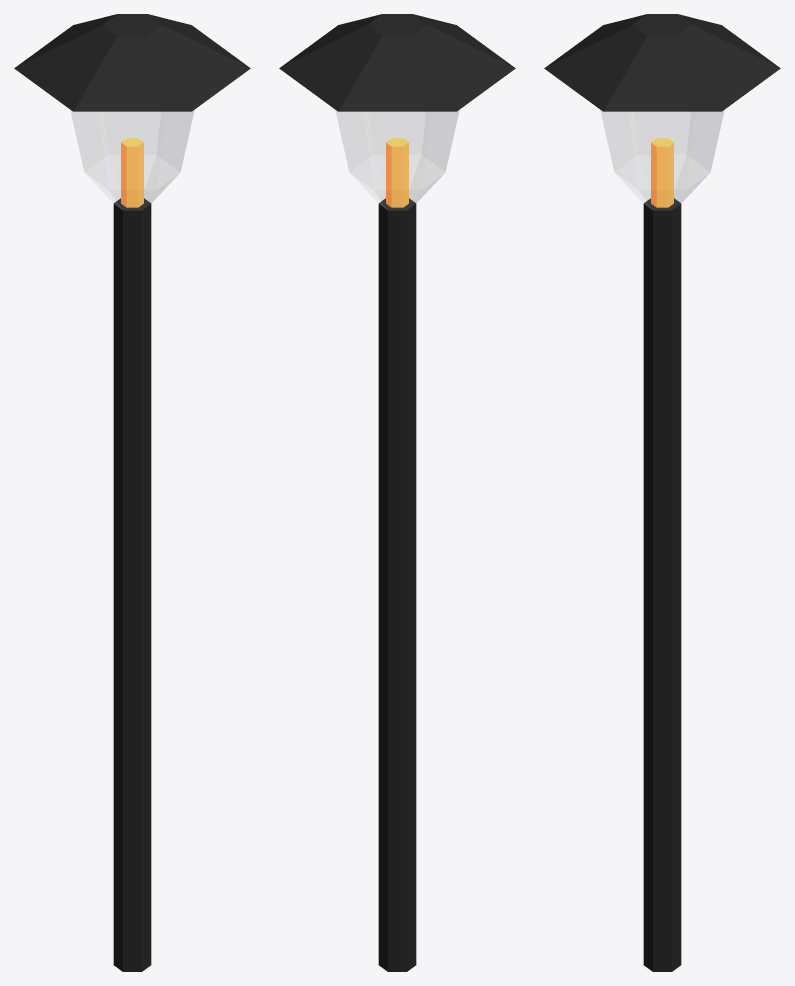
Rendered from VisioStreetLight.fbx.
The picture shows the model from 3 angles, left to right: view 1: azimuth 30°, elevation 25°; view 2: azimuth 150°, elevation 25°; view 3: azimuth 270°, elevation 25°; orthographic projection.
Visible parts, largest first — view 1: Cylinder; view 2: Cylinder; view 3: Cylinder.
Part boxes in pixels (left/top/right/bottom): Cylinder: left=14, top=14, right=250, bottom=971; Cylinder: left=279, top=14, right=515, bottom=971; Cylinder: left=544, top=14, right=780, bottom=971.
Size of the model in its own units: 3.52 by 17.78 by 4.06.
